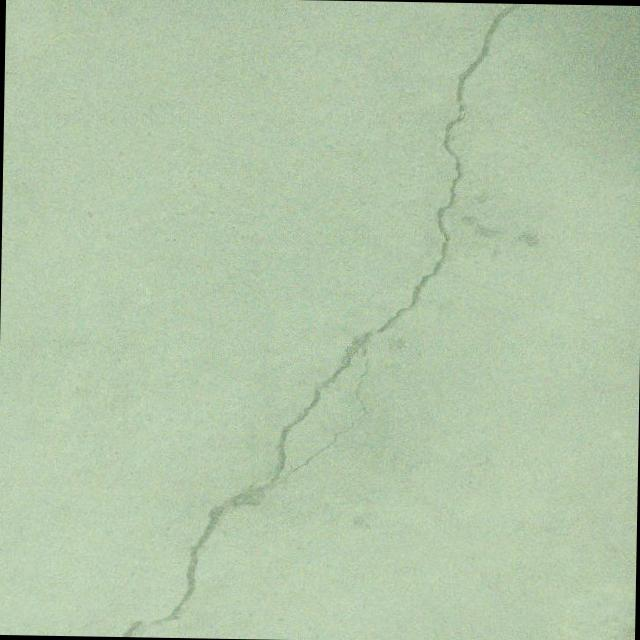crack: (120, 0, 523, 640)
